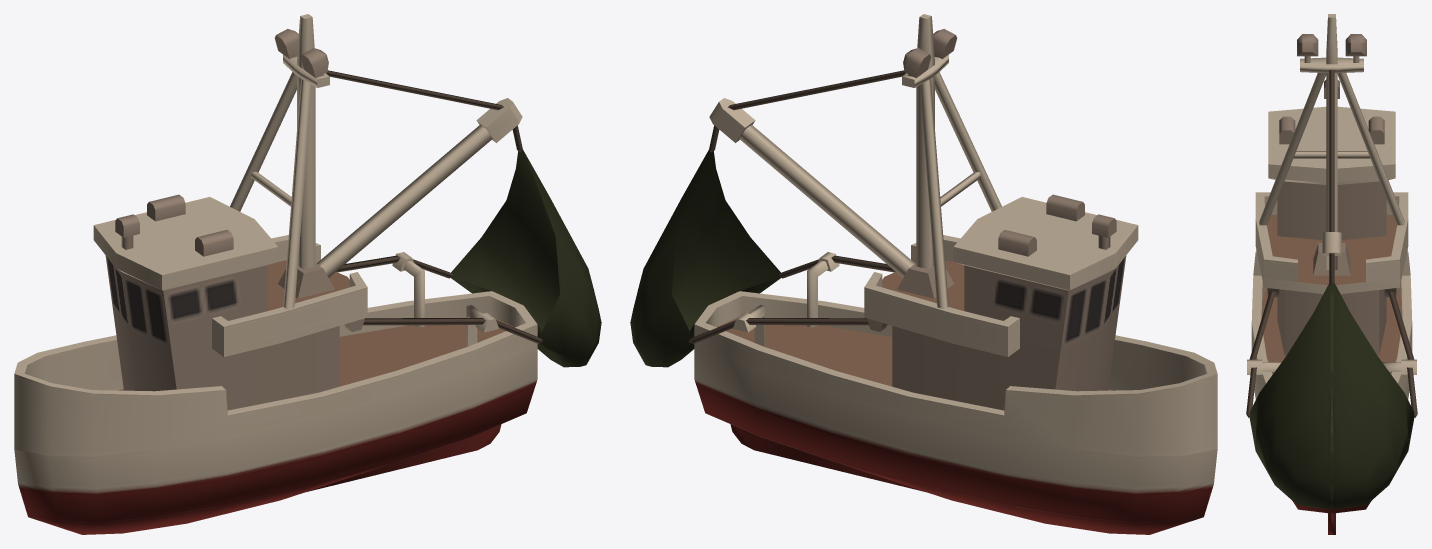
The model's file is Boat_02.fbx.
3 renders of one model, left to right at view 1: azimuth 30°, elevation 25°; view 2: azimuth 150°, elevation 25°; view 3: azimuth 270°, elevation 25°, orthographic. The views are drawn at different scales.
Parts seen in each view (by area): view 1: polySurface37; view 2: polySurface37; view 3: polySurface37.
Boxes of the visible parts, left/top/right/bottom form: polySurface37: left=14, top=14, right=601, bottom=534; polySurface37: left=630, top=14, right=1217, bottom=534; polySurface37: left=1246, top=14, right=1417, bottom=534.
Bounding box in the file's own units: 568 × 450 × 157.
